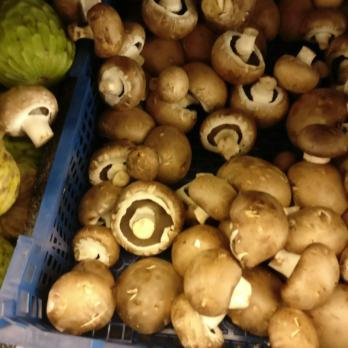Mushroom: (84, 2, 228, 348), (232, 0, 348, 348), (42, 262, 113, 330)
